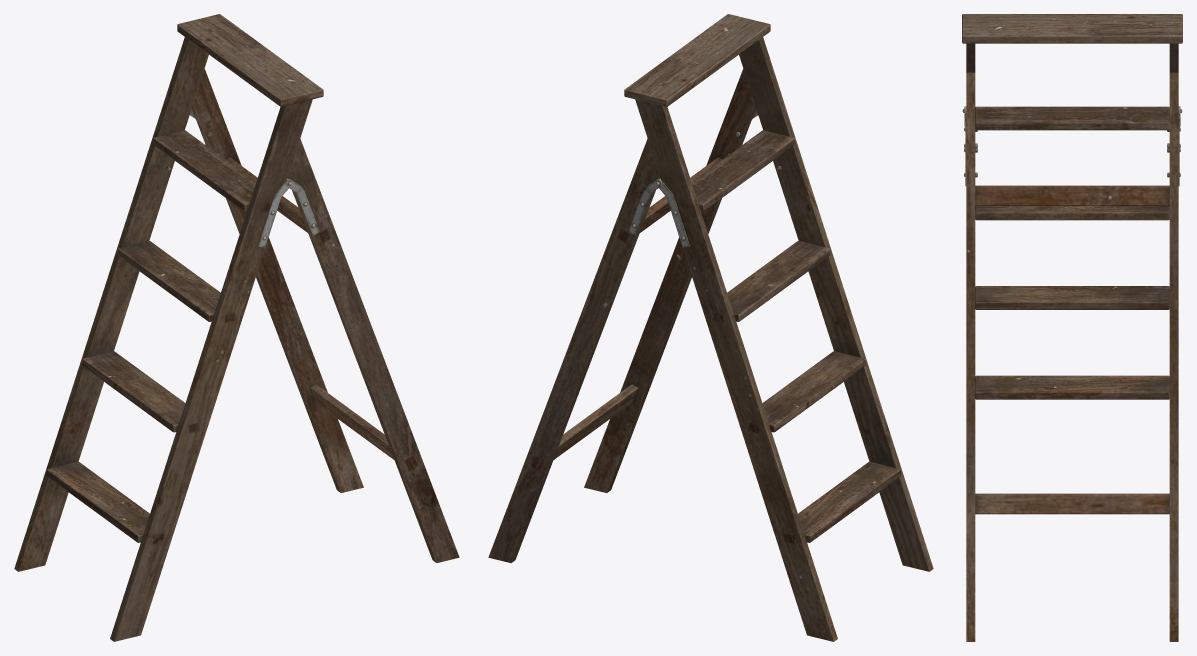
The model's file is wooden_ladder.gltf.
3 renders of one model, left to right at view 1: azimuth 30°, elevation 25°; view 2: azimuth 150°, elevation 25°; view 3: azimuth 270°, elevation 25°, orthographic. The views are drawn at different scales.
Parts seen in each view (by area): view 1: wooden_ladder_supports; view 2: wooden_ladder_supports; view 3: wooden_ladder_supports.
Boxes of the visible parts, box(x1,y1,x2,y2) form: wooden_ladder_supports: box(14, 14, 459, 641); wooden_ladder_supports: box(488, 14, 933, 641); wooden_ladder_supports: box(962, 14, 1182, 641).
Bounding box in the file's own units: 0.9592 × 1.33 × 0.5.
Materials: 1 (1 with a texture image).
